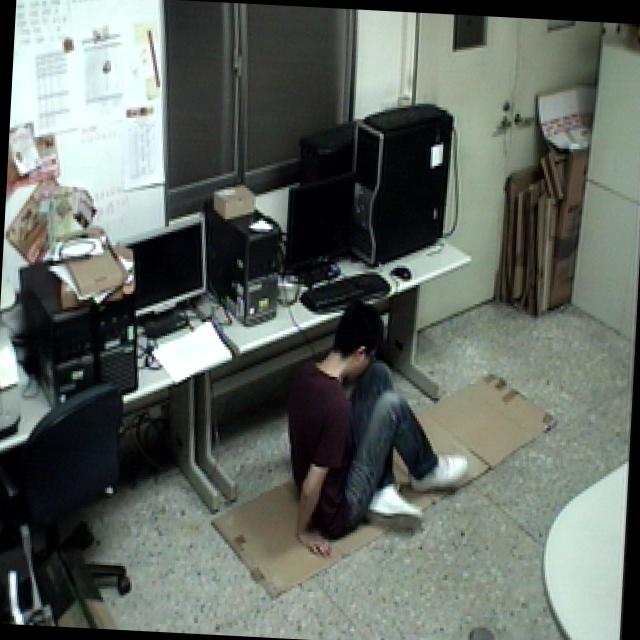sit: (271, 288, 488, 570)
